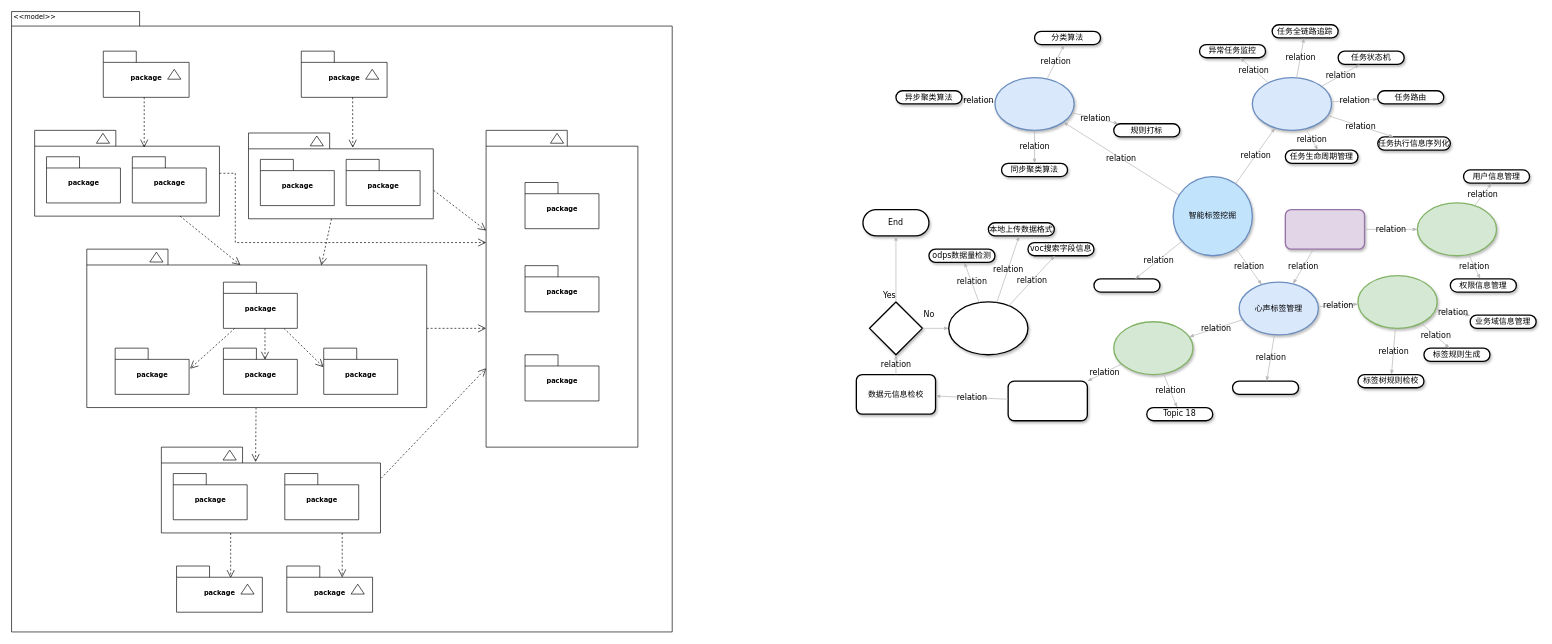
The diagram is 1552 pixels wide and 644 high, and some of its shapes have lost their labels. The centre of each missing label's shape, as x and y in pixels:
"Topic 19" belongs at point 1266,388.
"业务标签管理" belongs at point 1397,302.
"分类、聚类算法 A/B测试" belongs at point 1034,104.
"小二协同编辑标签" belongs at point 1325,230.
"提示数据错误信息" belongs at point 988,329.
"数据样本管理" belongs at point 1153,349.
"数据格式及元信息无误" belongs at point 896,329.
"数据集导入" belongs at point 1048,402.
"用户权限管理" belongs at point 1457,230.
"离线任务调度" belongs at point 1292,104.
"规则上线" belongs at point 1127,286.
